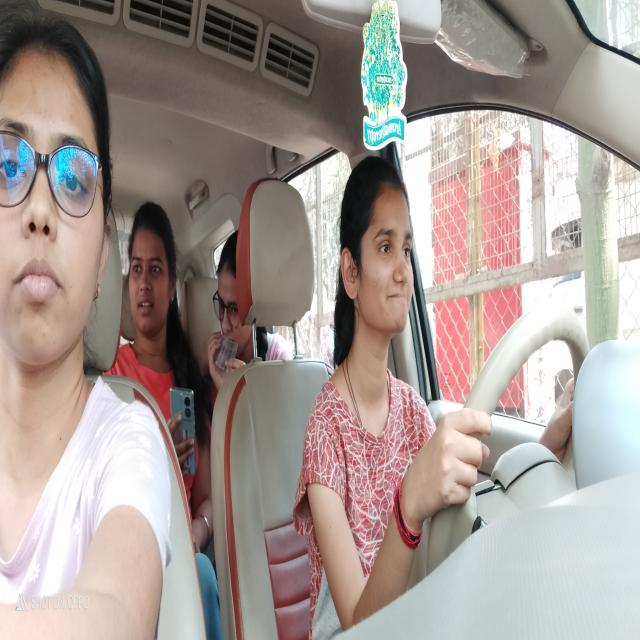person: (2, 29, 111, 360), (338, 163, 414, 328), (127, 209, 176, 335), (213, 240, 248, 355)
